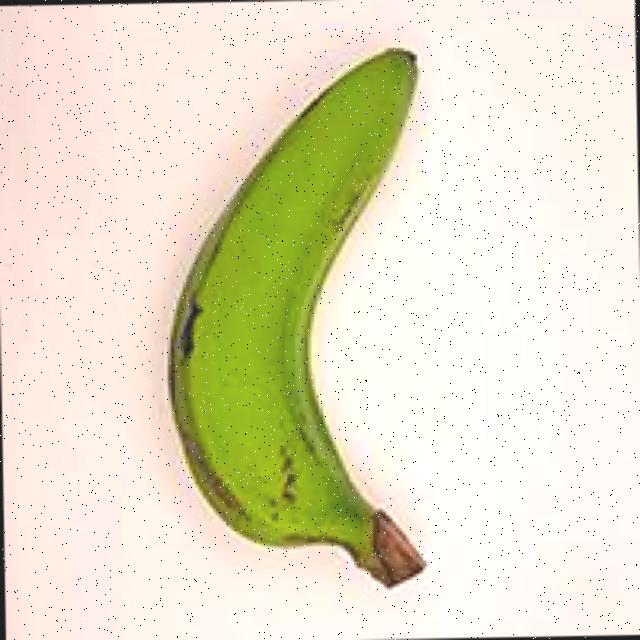Raw: (78, 20, 512, 623)
